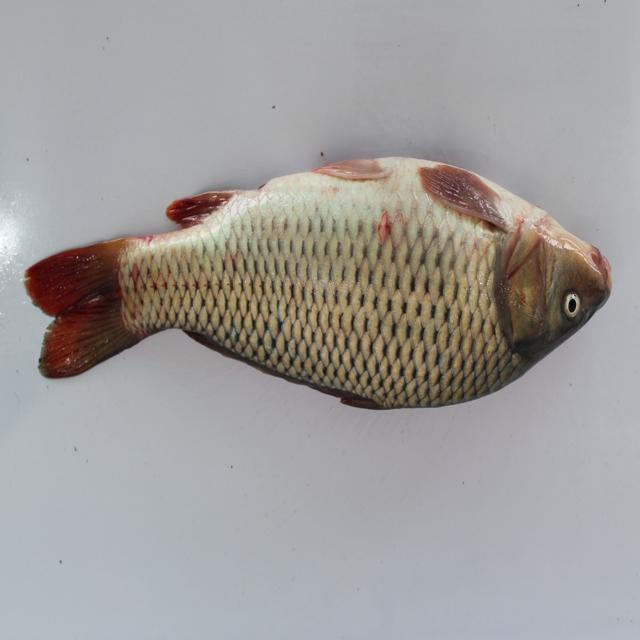CommonCarp: (22, 147, 613, 433)
